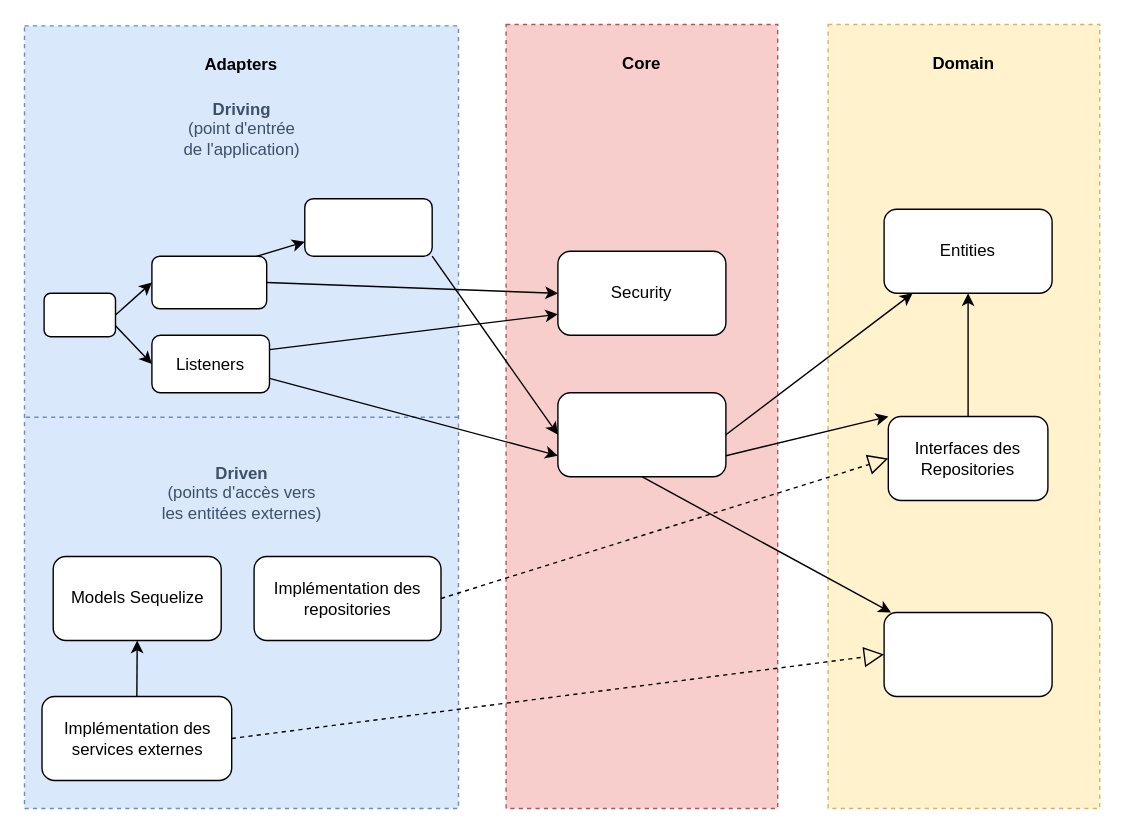
The diagram is 1124 pixels wide and 833 high, and some of its shapes have lost their labels. The shapes that lost their labels are listed below. From the top down, each one's centre as x and y in pixels, then its label:
At (x=367, y=226): "Controllers".
At (x=208, y=282): "Routes".
At (x=79, y=314): "app.js".
At (x=641, y=434): "Use cases".
At (x=967, y=653): "Interfaces de divers services externes nécessaires".
